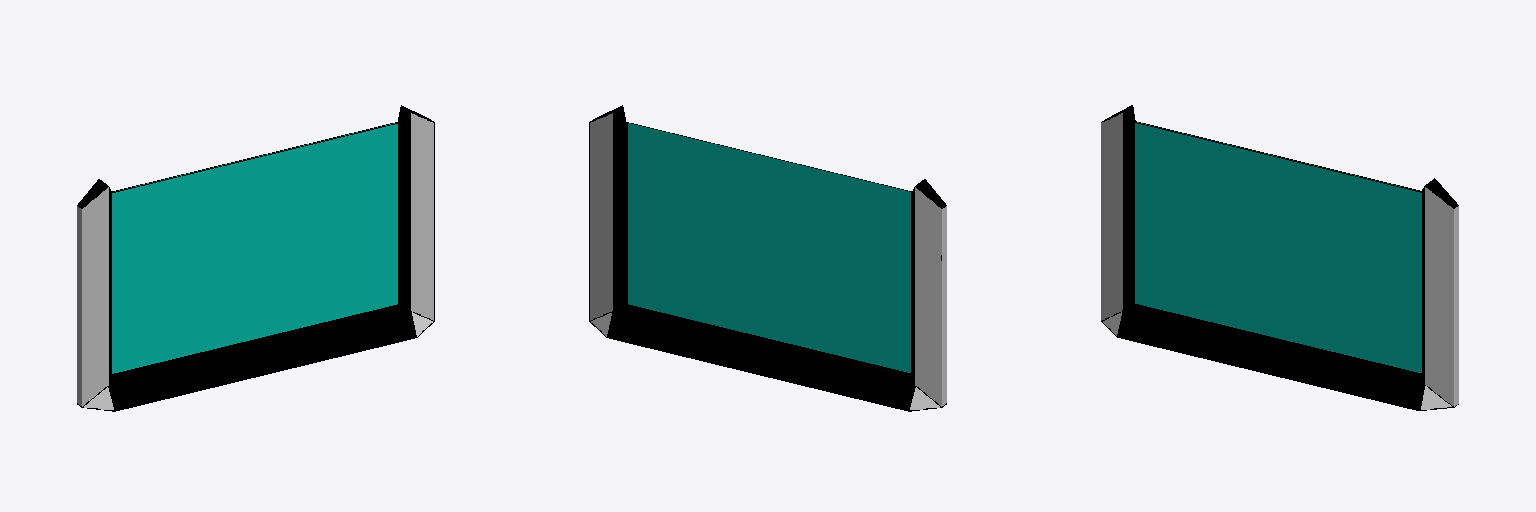
3 renders of one model, left to right at view 1: azimuth 30°, elevation 25°; view 2: azimuth 150°, elevation 25°; view 3: azimuth 330°, elevation 25°, orthographic.
Visible parts, largest first — view 1: Cube; view 2: Cube; view 3: Cube.
Part boxes in pixels (x1,y1,x2,y2): Cube: (77, 105, 434, 411); Cube: (589, 105, 946, 411); Cube: (1101, 105, 1458, 410).
Size of the model in its own units: 20 by 12 by 2.14.
1 materials, 1 textured.